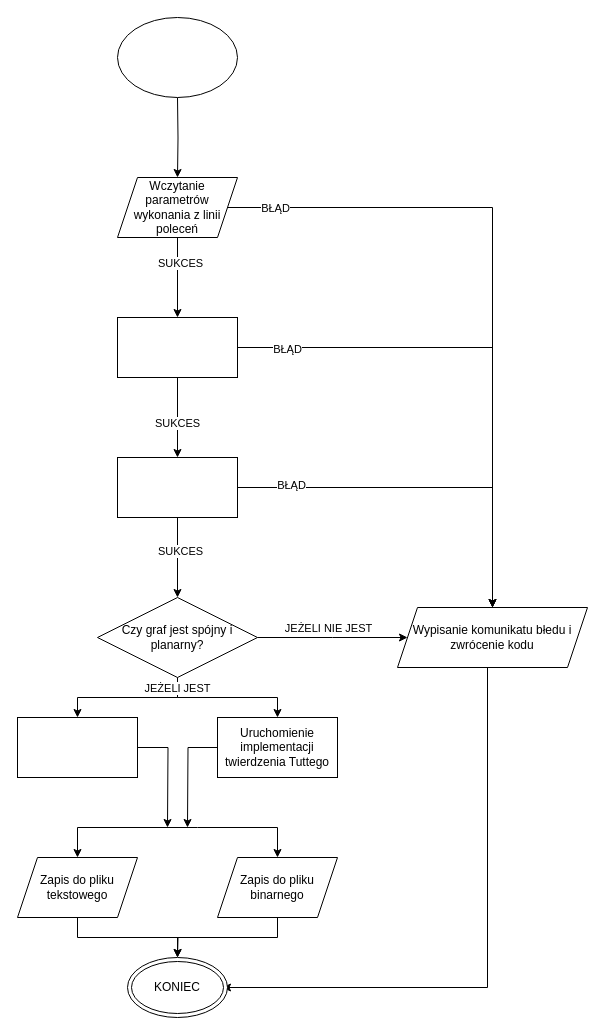
Image size: 605x1035. Some labels were removed from this diagram. The centre of each missing label's shape, as x and y in pixels:
START: point 177,57
Stworzenie grafu bazując na pliku: point 177,487
Uruchomienie implementacji algorytmu Eadesa: point 77,747
Wczytanie pliku z grafem: point 177,347
